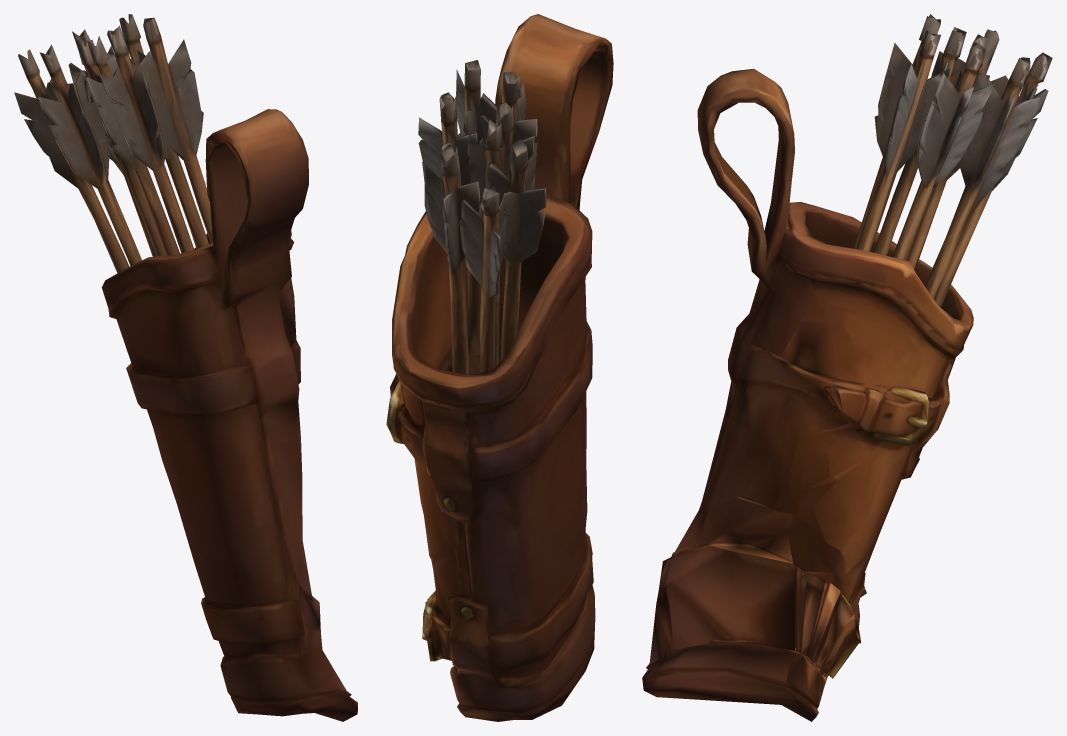
File: quiver.glb
The picture shows the model from 3 angles, left to right: view 1: azimuth 30°, elevation 25°; view 2: azimuth 150°, elevation 25°; view 3: azimuth 270°, elevation 25°; orthographic projection. The views are drawn at different scales.
Parts seen in each view (by area): view 1: quiver; view 2: quiver; view 3: quiver.
Boxes of the visible parts, x1,y1,x2,y2 form: quiver: (14, 14, 357, 721); quiver: (386, 14, 613, 721); quiver: (642, 14, 1052, 721).
Bounding box in the file's own units: 0.2114 × 0.7089 × 0.4006.
1 material, 1 textured.
